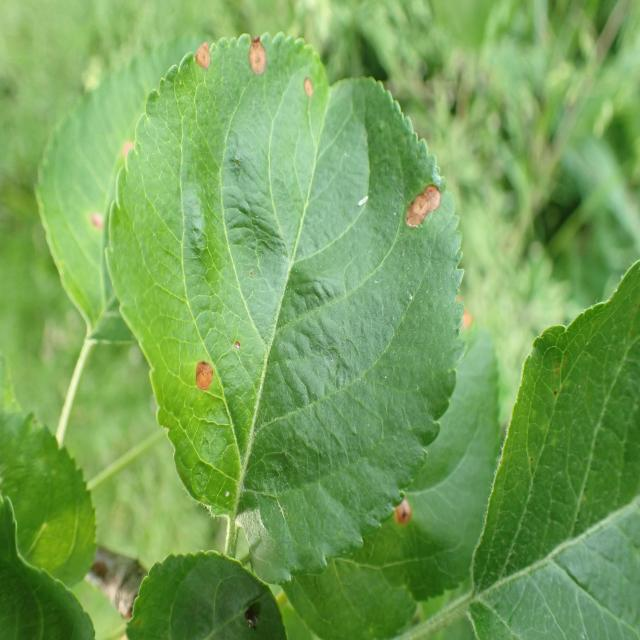Black Rot: (379, 166, 456, 256), (376, 470, 427, 553), (182, 31, 232, 105), (300, 61, 335, 134), (236, 28, 270, 86), (180, 355, 222, 400)
